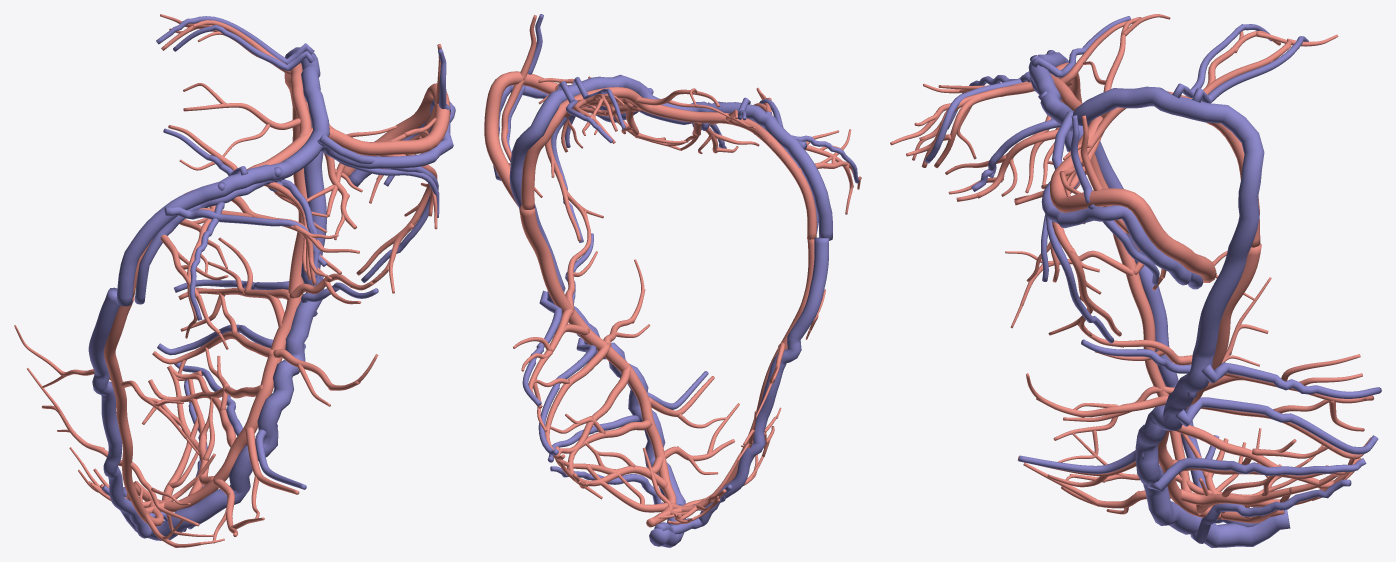
The model's file is vessels_34.glb.
The picture shows the model from 3 angles, left to right: view 1: azimuth 30°, elevation 25°; view 2: azimuth 150°, elevation 25°; view 3: azimuth 270°, elevation 25°; orthographic projection. The views are drawn at different scales.
Parts seen in each view (by area): view 1: Renderer Node; view 2: Renderer Node; view 3: Renderer Node.
Part boxes in pixels (bbox=[...]): Renderer Node: bbox=[14, 14, 455, 547]; Renderer Node: bbox=[484, 14, 861, 547]; Renderer Node: bbox=[890, 14, 1381, 547].
Bounding box in the file's own units: 92.16 × 116 × 91.93.
